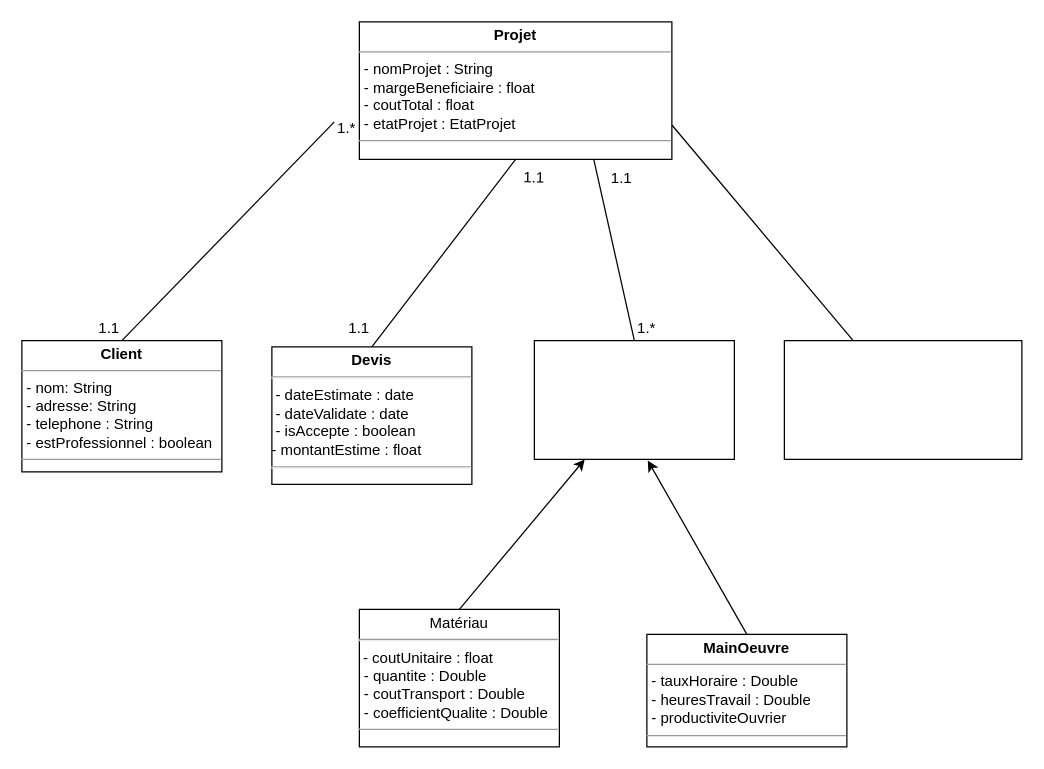
Some shapes in this 1044 by 769 pixel diagram are drawn without their labels. Here are the shapes that lost their labels. From the top down, the box of each, then its label:
(533, 339, 734, 459): Composant - nom : String - typeComposant : String - tauxTVA : float
(783, 339, 1022, 459): <<enumeration>> EtatProjet EN_COURS TERMINE ANNULE
